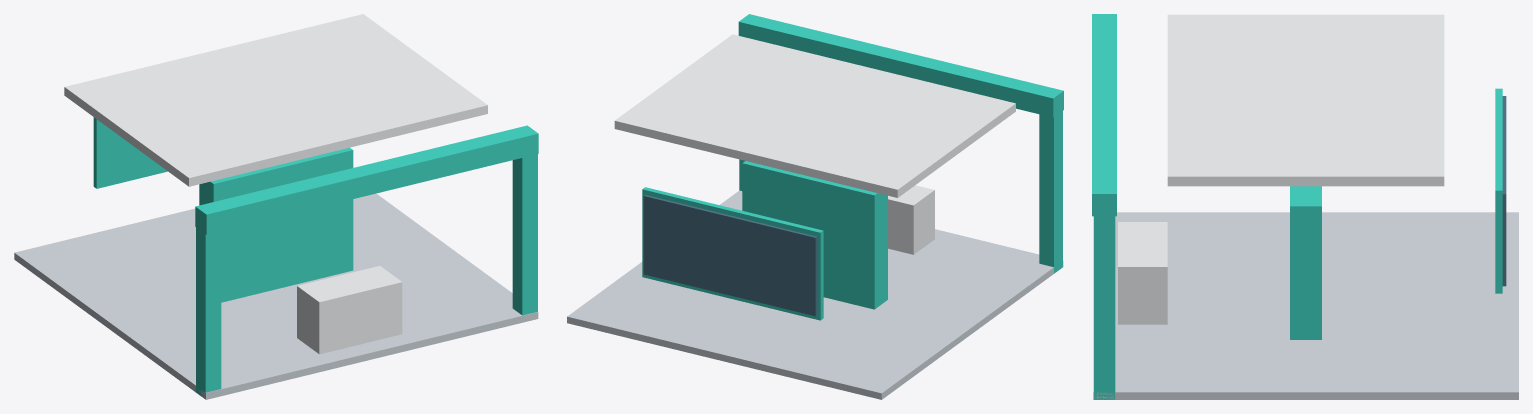
3 renders of one model, left to right at view 1: azimuth 30°, elevation 25°; view 2: azimuth 150°, elevation 25°; view 3: azimuth 270°, elevation 25°, orthographic. The views are drawn at different scales.
Visible parts, largest first — view 1: Exhibition Booth Concept; view 2: Exhibition Booth Concept; view 3: Exhibition Booth Concept.
Part boxes in pixels (x1=…): Exhibition Booth Concept: x1=14, y1=14, x2=538, y2=399; Exhibition Booth Concept: x1=567, y1=14, x2=1063, y2=399; Exhibition Booth Concept: x1=1092, y1=14, x2=1518, y2=399.
Size of the model in its own units: 6 by 3.34 by 6.02.
